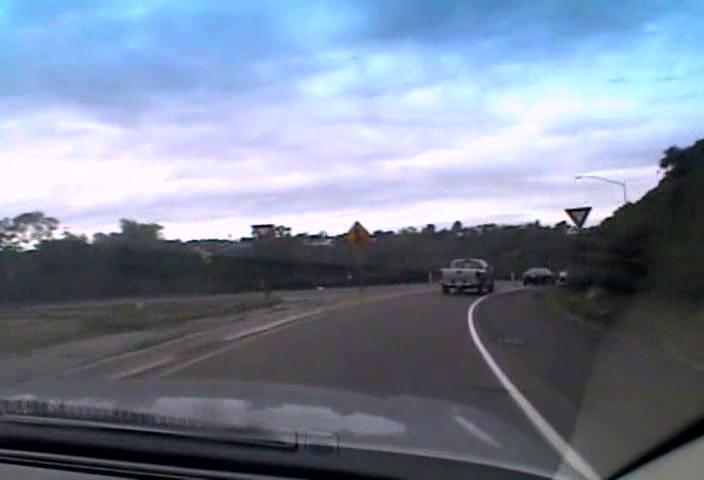yield: (562, 205, 592, 229)
